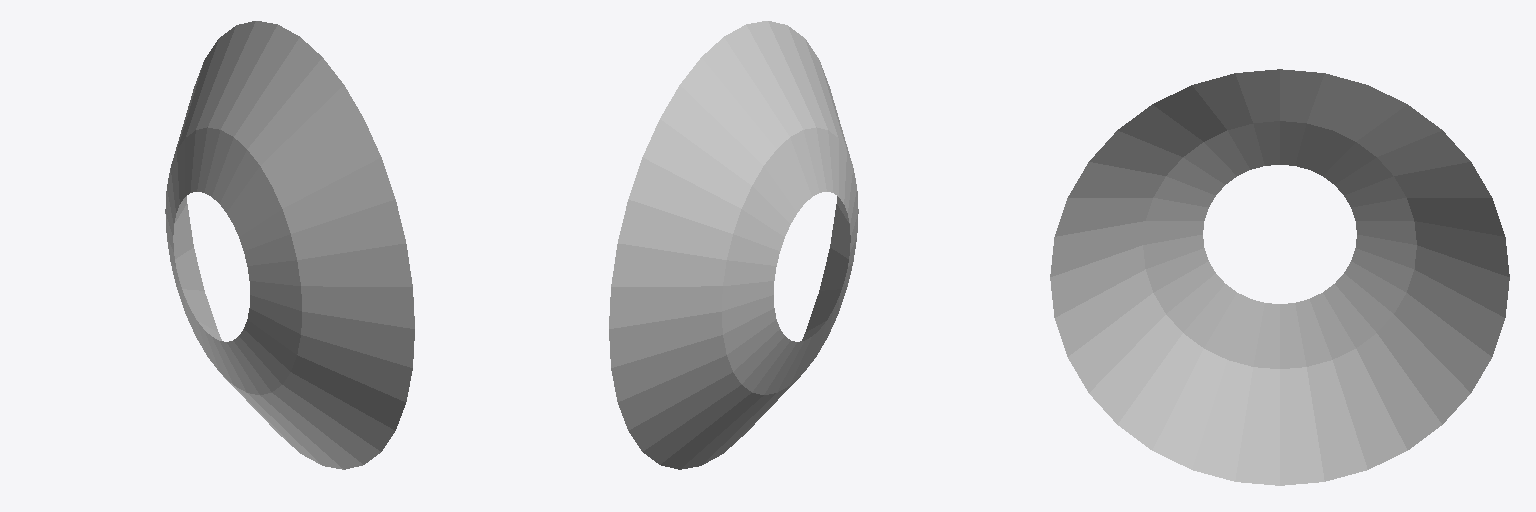
Rendered from beam-cylinder-2-mesh.obj.
3 renders of one model, left to right at view 1: azimuth 30°, elevation 25°; view 2: azimuth 150°, elevation 25°; view 3: azimuth 270°, elevation 25°, orthographic.
Parts seen in each view (by area): view 1: Cylinder.001; view 2: Cylinder.001; view 3: Cylinder.001.
Part boxes in pixels (bbox=[...]): Cylinder.001: bbox=[165, 21, 414, 469]; Cylinder.001: bbox=[609, 21, 858, 469]; Cylinder.001: bbox=[1050, 69, 1509, 485].
Bounding box in the file's own units: 0.771 × 3.47 × 3.47.